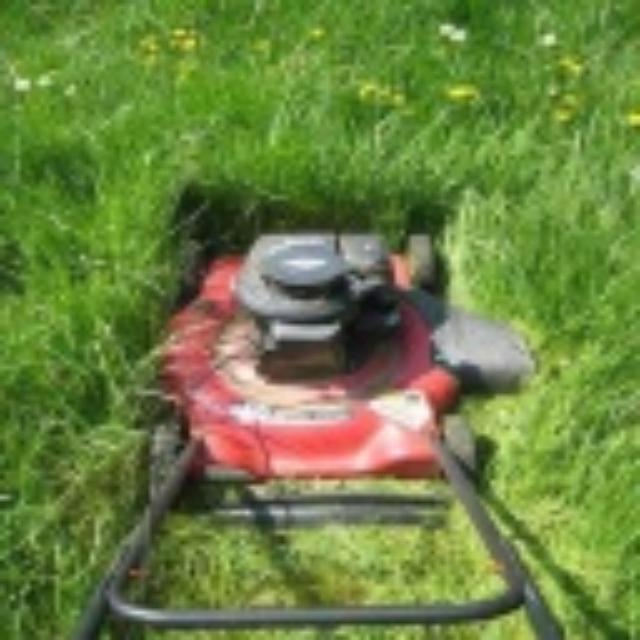Rotary-Mower: (80, 150, 560, 640)
